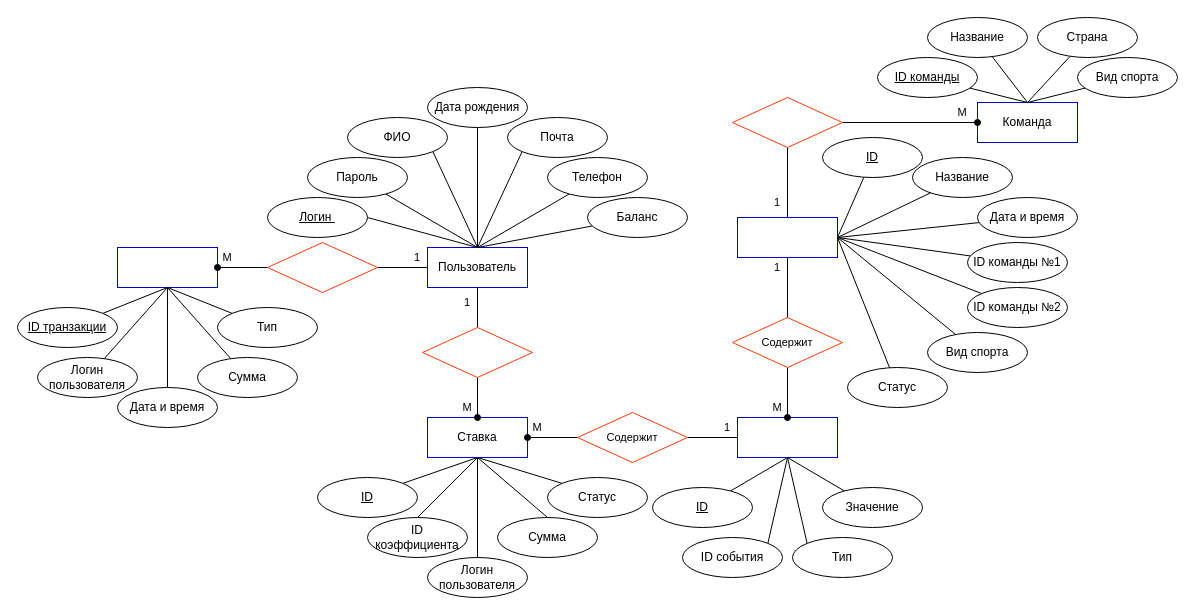
The diagram is 1195 pixels wide and 615 high, and some of its shapes have lost their labels. The shapes that lost their labels are listed below. From the top down, each one's centre as x and y in pixels, then its label:
[787,122]: Участвует
[787,237]: Событие
[167,267]: Транзакция
[322,267]: Проводит
[477,352]: Оформляет
[787,437]: Коэффициент
